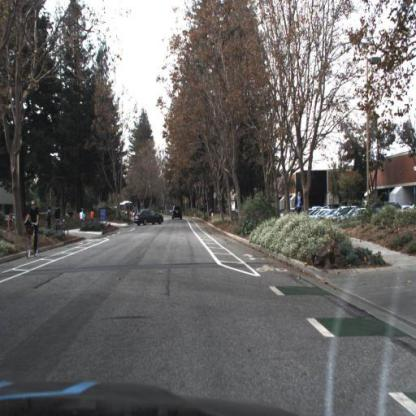biker: (24, 200, 41, 260)
car: (134, 209, 164, 226), (172, 202, 186, 223)
pedestrian: (296, 188, 304, 212), (55, 205, 61, 234), (47, 208, 53, 226), (82, 209, 87, 228), (91, 209, 96, 225)
